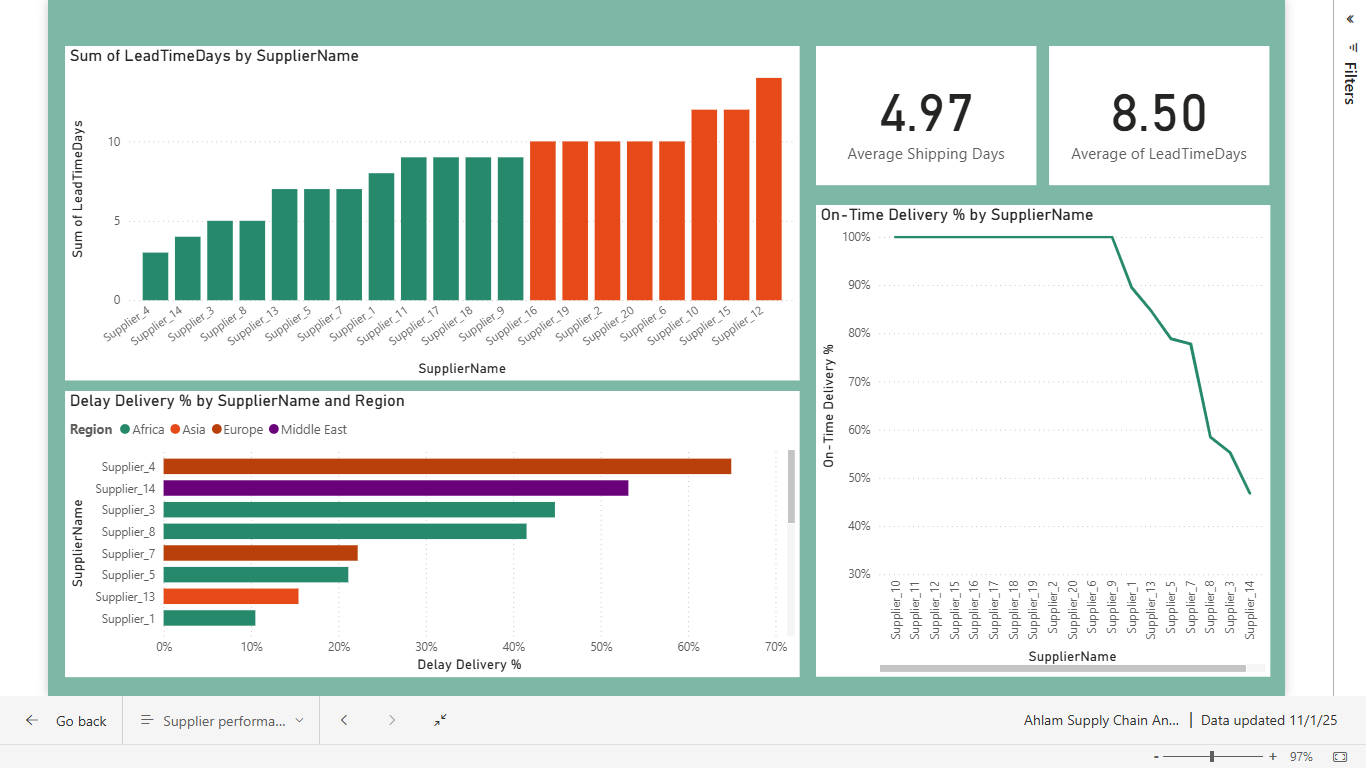

What the dashboard file says about the page in this screenshot:
{"tool":"powerbi","page":{"name":"Supplier performance","canvas":[1280,720],"ordinal":2},"visuals":[{"type":"barChart","fields":{"Category":["suppliers.SupplierName"],"Y":["orders.Delay Delivery %"],"Series":["suppliers.Region"]},"box":[18,404,760,296],"z":0},{"type":"clusteredColumnChart","fields":{"Category":["suppliers.SupplierName"],"Y":["Sum(suppliers.LeadTimeDays)"]},"box":[18,48,760,346],"z":1000},{"type":"card","fields":{"Values":["select","orders.Average Shipping Days"]},"box":[794,48,228,144],"z":2000},{"type":"card","fields":{"Values":["Avg(suppliers.LeadTimeDays)"]},"box":[1036,48,228,144],"z":3000},{"type":"lineChart","fields":{"Y":["orders.On-Time Delivery %"],"Category":["suppliers.SupplierName"]},"box":[794,212,470,488],"z":4000}]}

Visuals, with their boxes on the page's 1280x720 design canvas (x1, y1, x2, y2). These are canvas units, not pixel positions in the 1366x768 screenshot, which may show the page scaled, cropped or inside an application window:
barChart - suppliers.SupplierName x orders.Delay Delivery %: l=18, t=404, r=778, b=700
clusteredColumnChart - suppliers.SupplierName x Sum(suppliers.LeadTimeDays): l=18, t=48, r=778, b=394
card - select x orders.Average Shipping Days: l=794, t=48, r=1022, b=192
card - Avg(suppliers.LeadTimeDays): l=1036, t=48, r=1264, b=192
lineChart - orders.On-Time Delivery % x suppliers.SupplierName: l=794, t=212, r=1264, b=700
